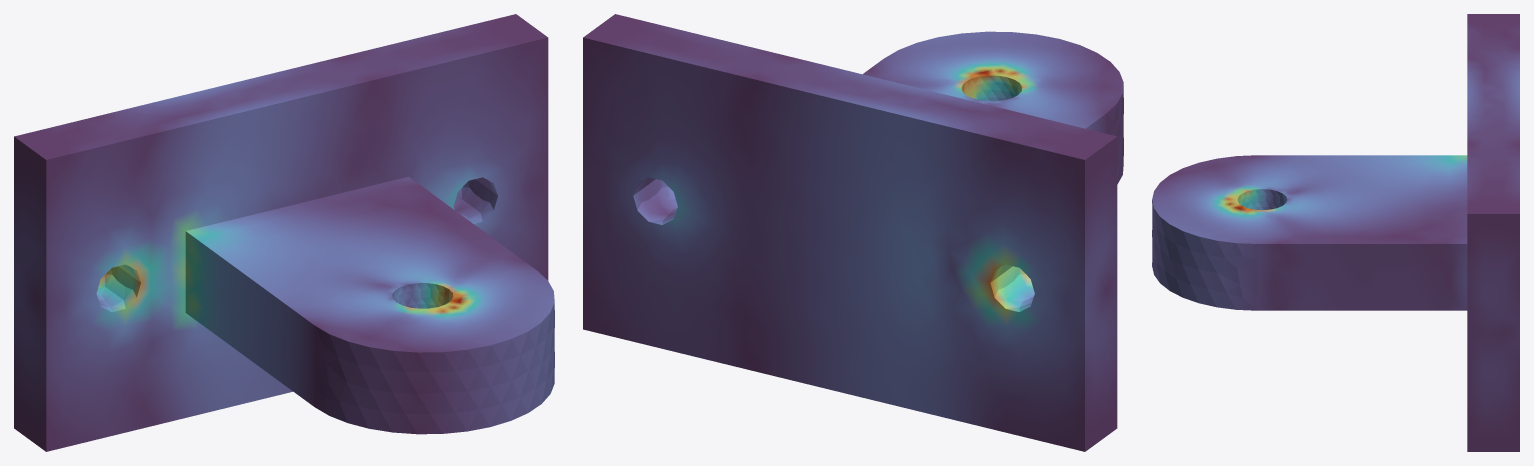
File: P6_seat_fitting.glb
3 views of the same model, side by side, from view 1: azimuth 30°, elevation 25°; view 2: azimuth 150°, elevation 25°; view 3: azimuth 270°, elevation 25° (orthographic). The views are drawn at different scales.
Parts seen in each view (by area): view 1: geometry_0; view 2: geometry_0; view 3: geometry_0.
Part boxes in pixels (bbox=[...]): geometry_0: bbox=[14, 14, 554, 451]; geometry_0: bbox=[583, 14, 1123, 451]; geometry_0: bbox=[1152, 14, 1519, 451].
Size of the model in its own units: 0.09 by 0.05 by 0.07.
